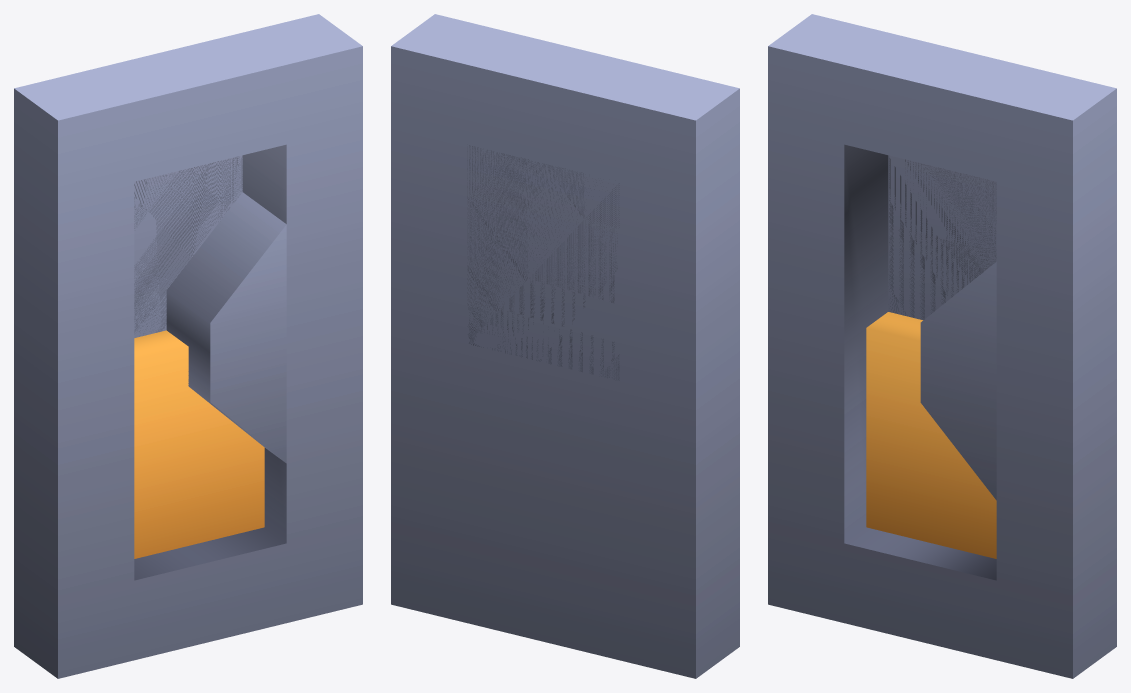
The model's file is hatch.glb.
3 views of the same model, side by side, from view 1: azimuth 30°, elevation 25°; view 2: azimuth 150°, elevation 25°; view 3: azimuth 330°, elevation 25° (orthographic).
Visible parts, largest first — view 1: door-single-closed; view 2: door-single-closed; view 3: door-single-closed.
Part boxes in pixels (<box>): door-single-closed: <box>14,14,362,678</box>; door-single-closed: <box>391,14,739,678</box>; door-single-closed: <box>768,14,1116,678</box>.
Bounding box in the file's own units: 0.4 × 0.7 × 0.1.
Materials: 1 (1 with a texture image).
